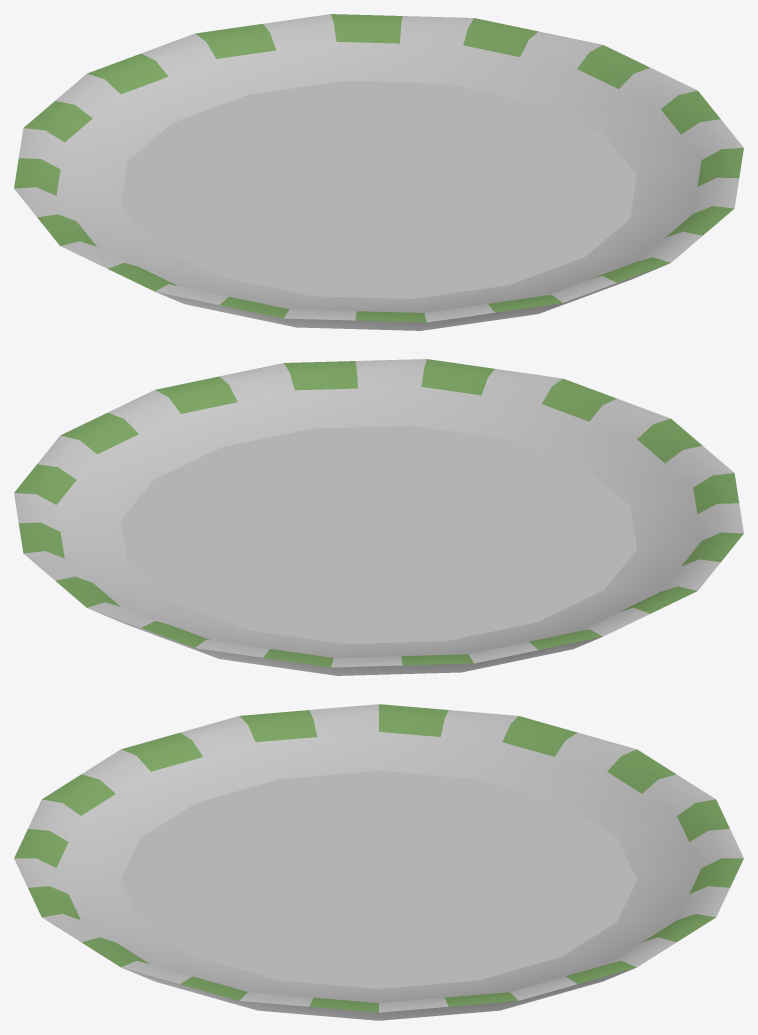
Rendered from Plate_02.fbx.
3 views of the same model, one above another, from view 1: azimuth 30°, elevation 25°; view 2: azimuth 150°, elevation 25°; view 3: azimuth 270°, elevation 25° (orthographic).
Parts seen in each view (by area): view 1: Plate_02; view 2: Plate_02; view 3: Plate_02.
Part boxes in pixels (x1,y1,x2,y2): Plate_02: [14, 14, 743, 330]; Plate_02: [14, 359, 743, 675]; Plate_02: [14, 704, 743, 1020].
Bounding box in the file's own units: 0.1701 × 0.0117 × 0.1701.
